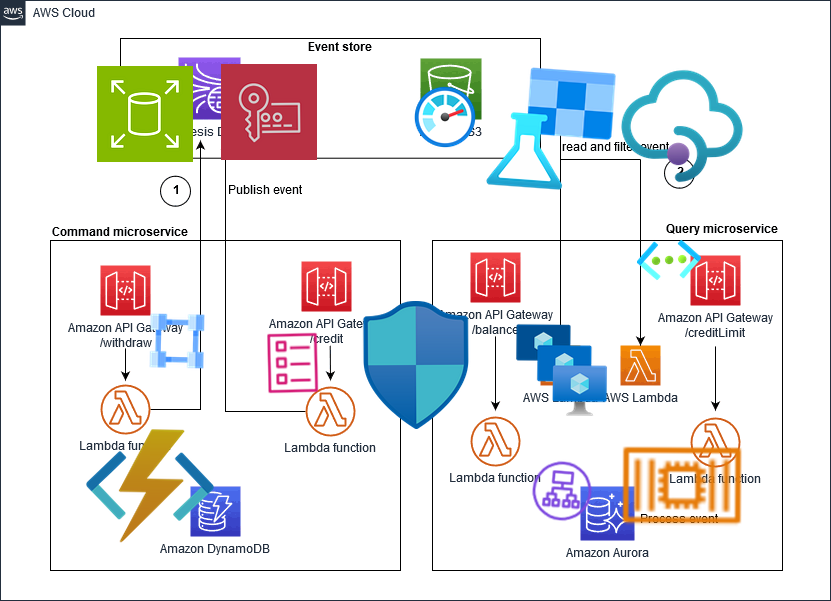aws_amazon_elastic_block_store: (96, 65, 194, 163)
aws_cloudformation_template: (259, 330, 325, 396)
aws_elastic_container_service_container_2: (617, 420, 747, 550)
aws_elastic_load_balancing_application_load_balancer: (527, 456, 597, 526)
aws_key_management_service: (220, 63, 318, 161)
azure_api_management_services: (616, 60, 748, 192)
azure_function_apps: (84, 420, 216, 552)
azure_machine_learning_studio_workspaces: (482, 60, 620, 198)
azure_monitor: (412, 84, 478, 150)
azure_network_security_groups: (351, 300, 481, 430)
azure_virtual_networks: (634, 225, 704, 295)
azure_vm_scale_sets: (511, 319, 609, 417)
gcp_virtual_private_cloud: (144, 308, 210, 374)
